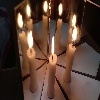fire: (51, 35, 55, 56)
